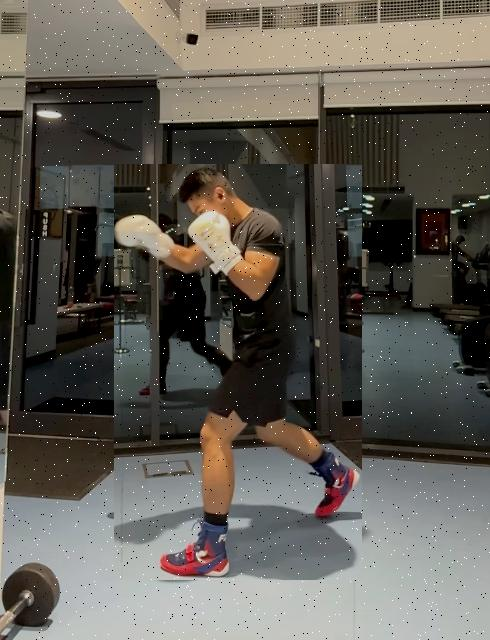punch: (114, 164, 362, 580)
